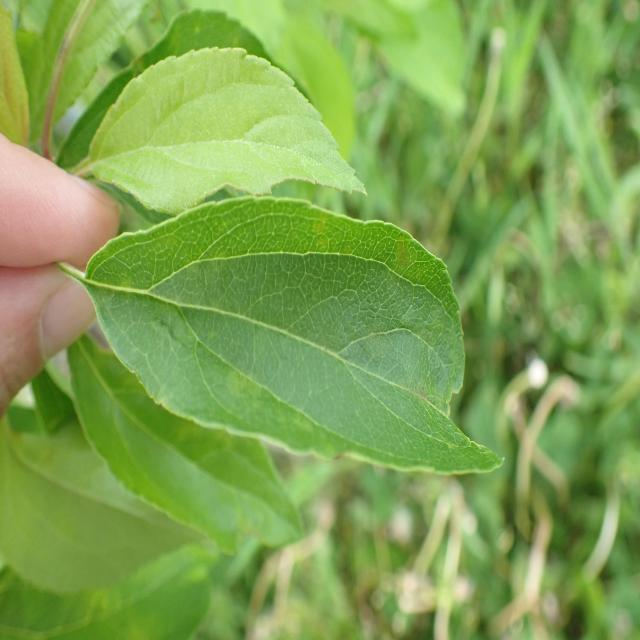scab: (198, 214, 474, 470)
